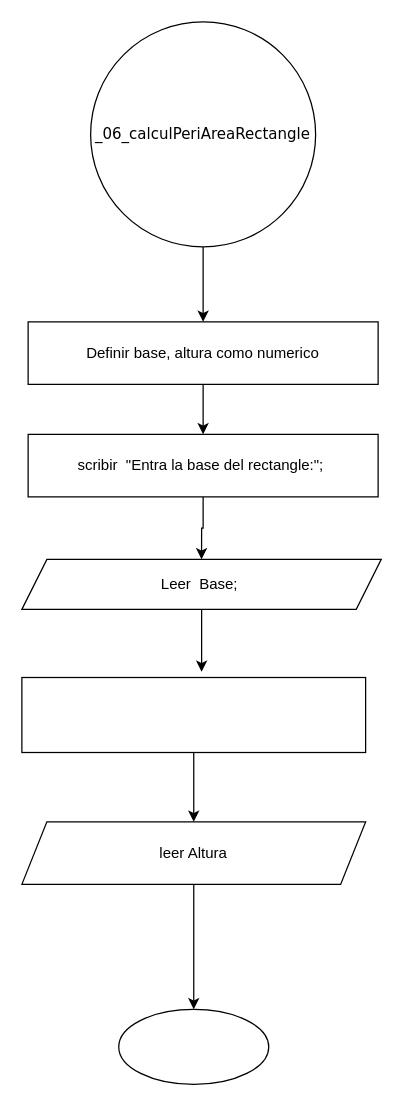
The diagram is 404 pixels wide and 1106 high, and some of its shapes have lost their labels. Here are the shapes that lost their labels. From the top down, the centre of each, then its label:
point 193,714: Escribir "Entra l''altura del rectangle ";
point 193,1046: Fin processo
